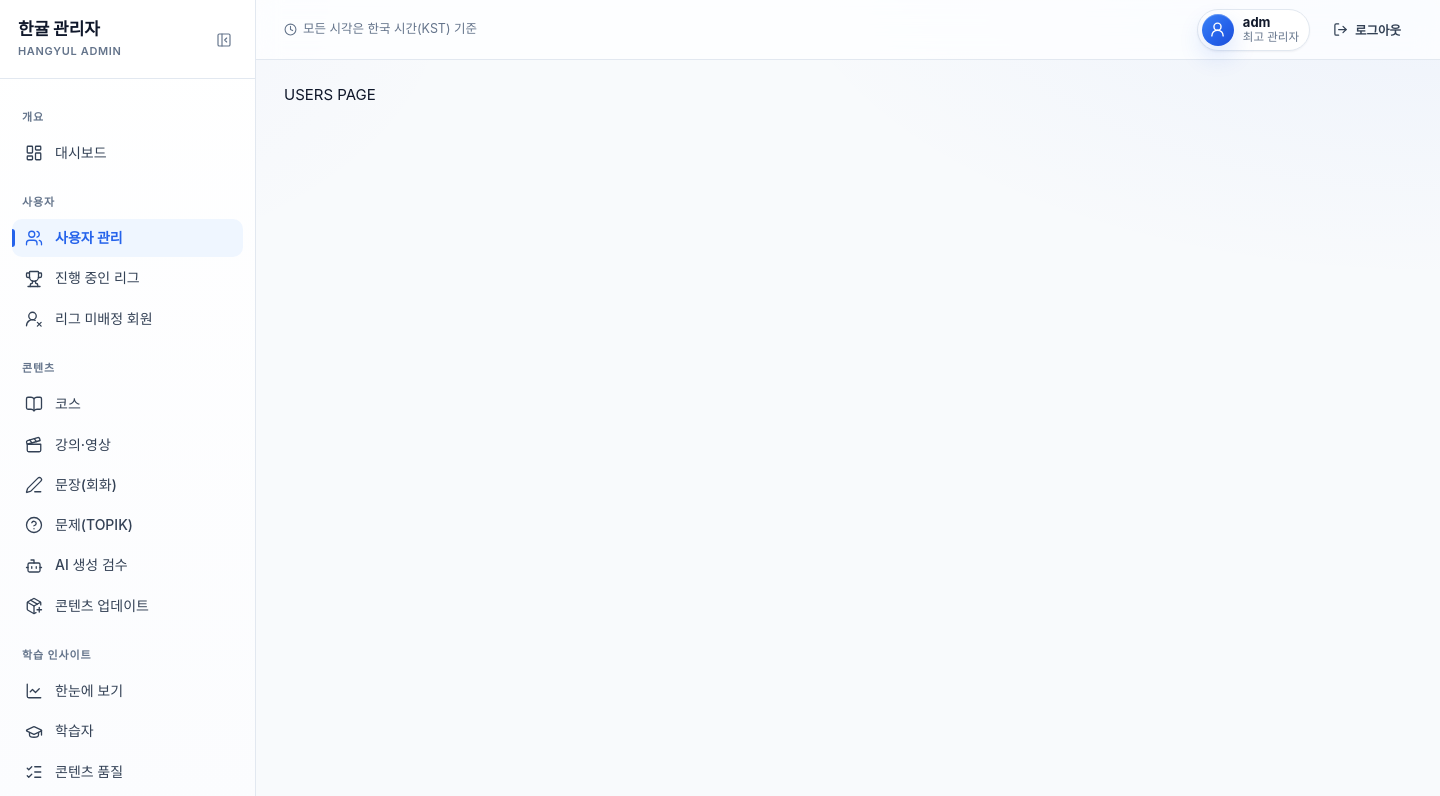
admin sidebar › names the control for what a click will do
Click the button named "사이드바 접기": point(224, 40) left=211, top=27, right=237, bottom=53
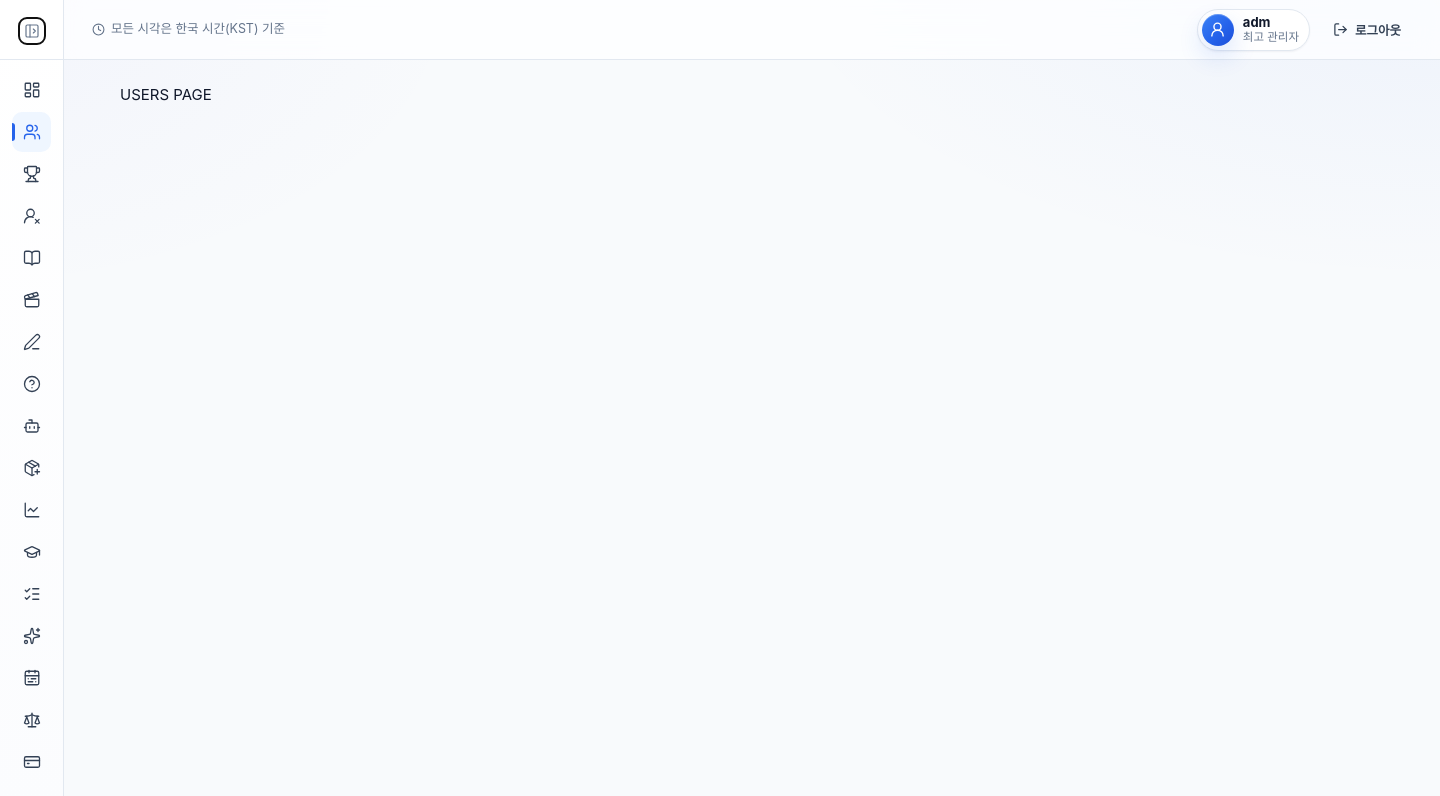
Expected: the button named "사이드바 펼치기" is shown, left=18, top=18, right=44, bottom=44
